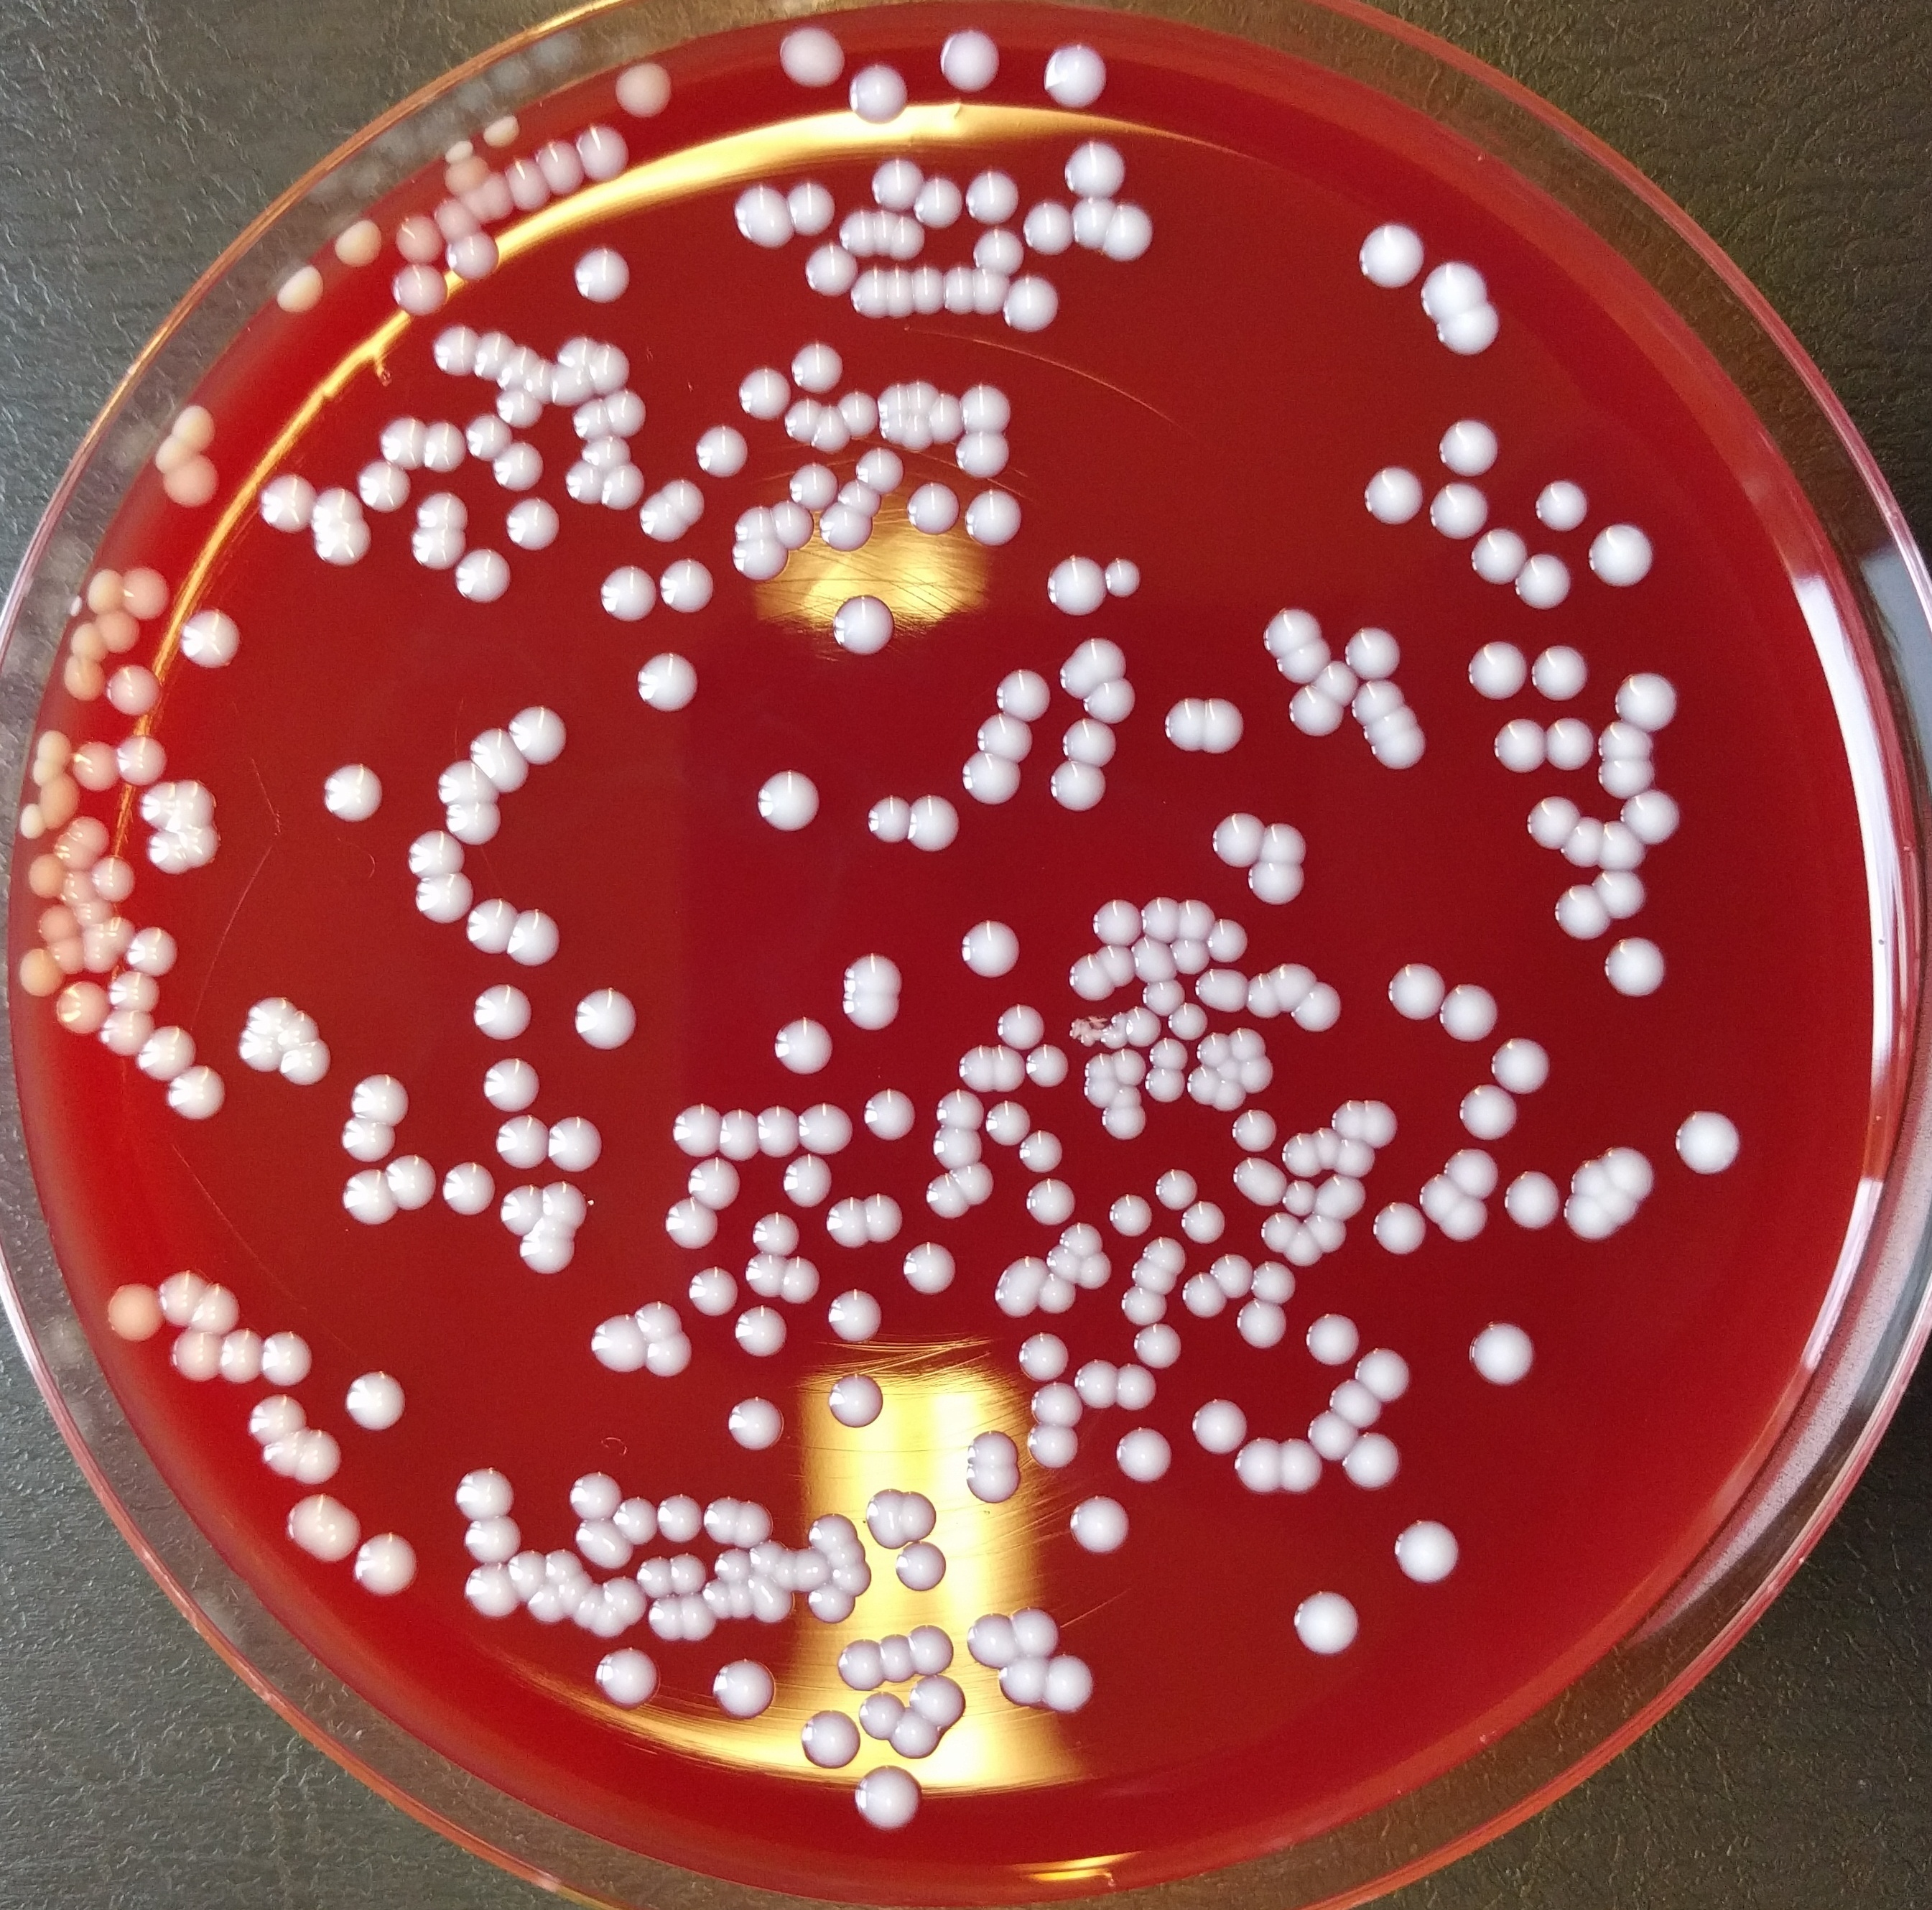sp22: (566, 981, 643, 1058), (750, 764, 824, 843), (1390, 1511, 1462, 1592), (283, 1492, 358, 1564), (1670, 1105, 1747, 1175), (1357, 217, 1425, 294), (1046, 35, 1108, 117), (829, 593, 902, 663), (855, 1767, 930, 1835), (631, 651, 708, 717), (1582, 519, 1656, 588), (465, 722, 532, 798), (1469, 1319, 1537, 1391), (1292, 1585, 1360, 1656), (733, 182, 797, 257), (1056, 133, 1136, 192), (1467, 633, 1533, 705), (98, 1277, 164, 1349), (589, 1646, 663, 1711), (343, 1364, 407, 1438), (355, 1529, 421, 1599), (1357, 464, 1425, 530), (1609, 666, 1678, 731), (712, 1655, 782, 1719), (1484, 1030, 1556, 1093), (1414, 259, 1488, 320), (769, 1021, 844, 1081), (1455, 1084, 1525, 1147), (963, 486, 1025, 558), (1054, 637, 1126, 698), (177, 605, 248, 666), (850, 52, 909, 126), (402, 873, 479, 929), (778, 24, 844, 89), (731, 362, 797, 427), (1065, 1492, 1131, 1557), (1386, 955, 1448, 1025), (477, 1055, 549, 1114), (1616, 791, 1689, 848), (1435, 416, 1502, 479), (1607, 936, 1666, 1006), (720, 1396, 790, 1455), (1102, 198, 1156, 273), (322, 759, 385, 824), (507, 701, 572, 764), (965, 710, 1037, 766), (598, 560, 661, 623), (547, 1111, 610, 1174), (1046, 553, 1105, 619), (133, 1023, 199, 1083), (444, 1156, 502, 1224), (1428, 479, 1490, 542), (956, 925, 1019, 986), (1187, 1398, 1248, 1460), (822, 1287, 885, 1349), (458, 1560, 521, 1621), (1465, 526, 1530, 586), (614, 61, 678, 121), (1437, 981, 1502, 1041), (801, 1709, 858, 1775), (942, 26, 998, 94), (434, 752, 509, 803), (1067, 191, 1119, 262), (822, 1373, 883, 1434), (455, 1457, 516, 1518), (1115, 1424, 1178, 1483), (257, 471, 315, 535), (1345, 1427, 1402, 1492), (1525, 796, 1581, 862), (1546, 885, 1612, 941), (1434, 308, 1505, 359), (593, 1312, 643, 1384), (1589, 868, 1652, 925), (350, 1069, 413, 1126), (505, 904, 563, 967), (103, 659, 166, 717), (161, 1067, 226, 1123), (909, 474, 962, 542), (1596, 717, 1671, 764), (790, 336, 850, 395), (1283, 680, 1345, 738), (1521, 551, 1577, 614), (1490, 714, 1546, 777), (1348, 1345, 1411, 1401), (797, 1098, 853, 1161), (245, 1387, 308, 1443), (1042, 1653, 1096, 1718), (575, 245, 636, 301), (1004, 276, 1060, 338), (575, 122, 636, 178), (1605, 1146, 1661, 1207), (680, 1160, 750, 1209), (656, 558, 720, 610), (392, 266, 458, 317), (1201, 691, 1250, 759), (1037, 766, 1110, 812), (960, 161, 1018, 219), (902, 1240, 960, 1298), (575, 1516, 633, 1574), (1369, 1202, 1428, 1258), (1327, 1371, 1381, 1432), (476, 983, 537, 1037), (516, 1224, 577, 1279), (841, 948, 904, 1000), (264, 1322, 315, 1387), (1234, 1431, 1280, 1502), (164, 1261, 210, 1333), (505, 495, 563, 551), (1264, 600, 1322, 656), (1533, 642, 1589, 700), (1304, 1310, 1360, 1368), (685, 1266, 741, 1324), (962, 752, 1021, 806), (907, 796, 962, 855), (1364, 729, 1432, 777), (535, 131, 587, 192), (864, 782, 907, 855), (442, 236, 505, 287), (505, 154, 556, 217), (1280, 1432, 1331, 1495), (731, 1307, 794, 1357), (91, 1011, 161, 1056), (469, 892, 518, 957), (720, 1098, 764, 1170), (778, 1156, 834, 1212), (909, 1676, 965, 1732), (1530, 479, 1588, 533), (54, 978, 107, 1037), (1245, 861, 1306, 911), (1505, 1168, 1556, 1230), (434, 320, 479, 388), (309, 523, 378, 568), (386, 1151, 435, 1214), (822, 498, 876, 554), (1234, 1300, 1289, 1356), (1345, 628, 1402, 680), (439, 799, 505, 845), (787, 175, 837, 234), (276, 261, 325, 322), (395, 212, 444, 273), (1273, 638, 1334, 687), (1341, 672, 1402, 721), (1126, 1322, 1187, 1371), (1061, 719, 1124, 766), (275, 1044, 337, 1091), (1437, 1149, 1502, 1195), (998, 1655, 1044, 1719), (801, 245, 855, 299), (1012, 1606, 1067, 1660), (1208, 810, 1261, 866), (663, 1198, 719, 1251), (965, 376, 1016, 434), (696, 425, 754, 476), (187, 1280, 245, 1331), (491, 1116, 549, 1167), (965, 1462, 1025, 1511), (341, 1165, 390, 1224), (837, 990, 899, 1037), (407, 829, 469, 876), (1028, 196, 1070, 264), (407, 530, 470, 575), (1070, 682, 1138, 724), (358, 460, 411, 514), (865, 1088, 918, 1142), (1229, 1158, 1283, 1210), (124, 922, 178, 974), (914, 173, 965, 229), (493, 443, 549, 493), (668, 1098, 719, 1154), (166, 1329, 217, 1385), (955, 427, 1012, 476), (463, 547, 512, 605), (1026, 1420, 1084, 1469), (969, 1611, 1018, 1669), (643, 1329, 692, 1387), (248, 1427, 306, 1476), (341, 1112, 399, 1161), (1163, 698, 1206, 761), (1306, 1408, 1359, 1460), (893, 1709, 946, 1761), (334, 217, 385, 271), (372, 415, 423, 469), (1194, 967, 1245, 1021), (1313, 1174, 1367, 1224), (115, 733, 166, 787), (121, 563, 170, 619), (542, 1182, 598, 1231), (1030, 1380, 1088, 1427), (837, 1635, 885, 1693), (108, 972, 173, 1014), (967, 226, 1026, 271), (294, 1429, 339, 1488), (1273, 960, 1317, 1021), (1294, 983, 1348, 1032), (1014, 1331, 1068, 1380), (164, 458, 220, 505), (874, 156, 921, 212), (993, 670, 1049, 717), (1096, 946, 1152, 993), (586, 338, 631, 395), (837, 381, 878, 446), (1598, 759, 1663, 799), (729, 537, 789, 581), (860, 1690, 911, 1740), (773, 395, 825, 444), (923, 383, 960, 453), (1088, 896, 1140, 945), (1100, 1189, 1149, 1242), (570, 1469, 622, 1518), (652, 1492, 705, 1541), (1065, 955, 1112, 1009), (862, 1193, 909, 1247), (470, 329, 516, 385), (743, 1247, 789, 1303), (909, 1623, 955, 1679), (932, 1084, 990, 1128), (867, 1483, 904, 1551), (1546, 721, 1595, 771), (949, 1161, 998, 1212), (897, 1541, 946, 1592), (1602, 819, 1647, 873), (1011, 1126, 1067, 1170), (504, 1179, 547, 1235), (1021, 1179, 1079, 1221), (601, 1571, 643, 1628), (430, 192, 479, 241), (918, 1174, 965, 1224), (217, 1329, 264, 1380), (87, 852, 133, 904), (773, 498, 817, 553), (559, 457, 603, 511), (629, 1298, 684, 1342), (808, 1509, 864, 1551), (829, 1189, 865, 1252), (177, 775, 226, 822), (1254, 1258, 1299, 1308), (1075, 1359, 1121, 1410), (1119, 1359, 1163, 1412), (1364, 1090, 1402, 1149), (460, 1518, 525, 1553), (423, 416, 460, 477), (1262, 815, 1310, 862), (1231, 1107, 1280, 1153), (234, 1028, 283, 1074), (1560, 819, 1598, 876), (935, 1126, 986, 1170), (178, 824, 222, 875), (44, 773, 80, 833), (885, 257, 914, 331), (902, 1483, 939, 1543), (1107, 549, 1145, 605), (761, 1100, 794, 1165), (1418, 1177, 1463, 1224), (1442, 1195, 1488, 1242), (94, 609, 143, 652), (850, 264, 885, 325), (414, 491, 476, 526), (320, 477, 369, 521), (1308, 663, 1357, 707), (73, 740, 115, 791), (1133, 941, 1184, 983), (878, 1632, 920, 1683), (610, 1490, 652, 1541), (813, 401, 850, 458), (752, 1571, 790, 1625), (1336, 1137, 1381, 1182), (1206, 1249, 1252, 1294), (175, 402, 219, 450), (605, 392, 652, 436), (995, 1000, 1042, 1044), (1026, 1044, 1074, 1088), (643, 493, 685, 542), (21, 948, 63, 997), (993, 1041, 1030, 1097), (1135, 985, 1191, 1021), (1567, 1200, 1616, 1242), (748, 1212, 797, 1254), (804, 1585, 855, 1625), (678, 1592, 719, 1642), (149, 831, 189, 882), (247, 997, 297, 1037), (839, 208, 878, 261), (1129, 1002, 1168, 1055), (965, 1431, 1023, 1466), (1096, 1105, 1150, 1142), (469, 415, 512, 460), (1180, 1198, 1224, 1244), (1283, 1224, 1329, 1268), (734, 1497, 780, 1541), (1255, 1210, 1303, 1252), (603, 464, 643, 512), (1303, 1214, 1352, 1254), (502, 1551, 542, 1600), (80, 925, 119, 976), (1187, 1275, 1226, 1326), (703, 1490, 741, 1541), (577, 434, 635, 467), (1310, 1119, 1343, 1177), (857, 446, 902, 488), (789, 462, 834, 504), (61, 658, 107, 700), (780, 1258, 822, 1303), (955, 1042, 995, 1090), (990, 1289, 1037, 1329), (666, 1551, 706, 1599), (1248, 971, 1283, 1025), (552, 366, 591, 415), (497, 390, 546, 429), (1145, 894, 1184, 943), (528, 1583, 566, 1632), (664, 477, 706, 521), (551, 331, 603, 366), (1206, 917, 1250, 958), (1568, 1156, 1612, 1198), (1121, 1287, 1166, 1328), (988, 1105, 1033, 1146), (1156, 1170, 1201, 1210), (276, 1007, 322, 1048), (837, 476, 885, 514), (24, 852, 63, 899), (1129, 1256, 1177, 1294), (142, 777, 177, 827), (970, 271, 1011, 315), (638, 1557, 678, 1600), (444, 154, 490, 192), (649, 1597, 687, 1642), (794, 1543, 825, 1597), (1283, 1118, 1310, 1182), (31, 728, 72, 770), (1145, 1237, 1187, 1277), (570, 397, 608, 441), (1173, 899, 1217, 938), (37, 903, 79, 941), (479, 112, 523, 149), (591, 1600, 628, 1644), (1054, 1221, 1105, 1252), (86, 568, 121, 614), (832, 1564, 878, 1599), (913, 266, 941, 322), (54, 831, 94, 869), (995, 1254, 1040, 1287), (773, 1544, 797, 1606), (906, 366, 937, 413), (45, 934, 82, 974), (72, 815, 112, 852), (1037, 1280, 1079, 1315), (906, 409, 934, 460), (72, 623, 108, 661), (1040, 1242, 1077, 1280), (1185, 1067, 1220, 1107), (1173, 1000, 1208, 1041), (1143, 1037, 1191, 1067), (156, 434, 191, 472), (1278, 1181, 1313, 1219), (1332, 1097, 1367, 1135), (63, 866, 96, 906), (1168, 941, 1208, 974), (1143, 1072, 1184, 1105), (484, 168, 509, 222), (733, 505, 771, 539), (897, 219, 927, 261), (1610, 1191, 1638, 1235), (1241, 1056, 1275, 1093), (946, 268, 970, 317), (727, 1579, 754, 1625), (108, 917, 140, 953), (544, 1544, 580, 1576), (878, 418, 906, 458), (874, 210, 897, 259), (1079, 1254, 1110, 1289), (1231, 1028, 1268, 1058), (575, 1592, 603, 1630), (1196, 1034, 1226, 1069), (1079, 1081, 1115, 1109), (559, 1579, 580, 1628), (1215, 1081, 1245, 1114), (79, 899, 115, 925), (16, 803, 42, 840), (715, 1548, 750, 1574), (1108, 1053, 1145, 1077), (705, 1583, 727, 1621), (745, 1548, 778, 1574), (30, 759, 61, 785), (878, 385, 906, 413), (1086, 1049, 1115, 1076), (1107, 1086, 1143, 1105), (444, 140, 472, 163), (1217, 1058, 1243, 1079)
